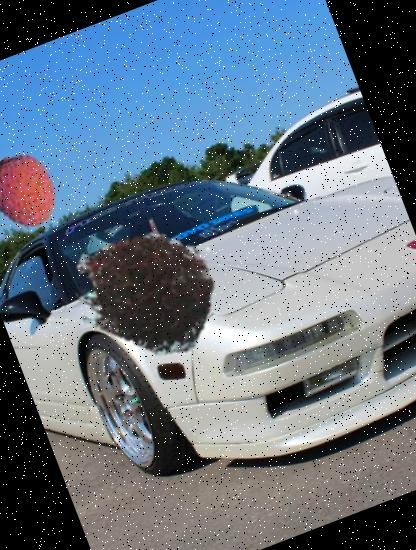Lychee: (0, 142, 73, 240)
Rambutan: (52, 190, 241, 379)
